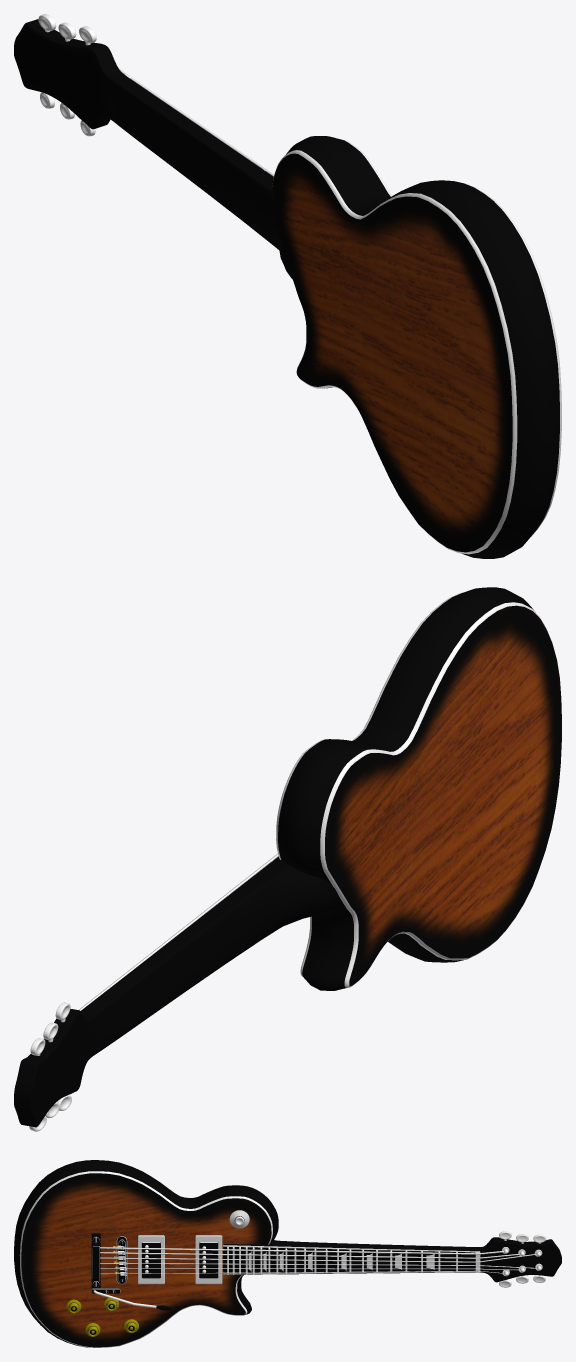
The model's file is guitar.glb.
The picture shows the model from 3 angles, top to bottom: view 1: azimuth 30°, elevation 25°; view 2: azimuth 150°, elevation 25°; view 3: azimuth 270°, elevation 25°; orthographic projection. The views are drawn at different scales.
Parts seen in each view (by area): view 1: pCube64; view 2: pCube64; view 3: pCube64.
Boxes of the visible parts, x1,y1,x2,y2 form: pCube64: (14, 14, 561, 558); pCube64: (14, 587, 561, 1131); pCube64: (14, 1160, 561, 1347).
Bounding box in the file's own units: 0.7508 × 3.46 × 9.3.
Materials: 13 (2 with a texture image).
